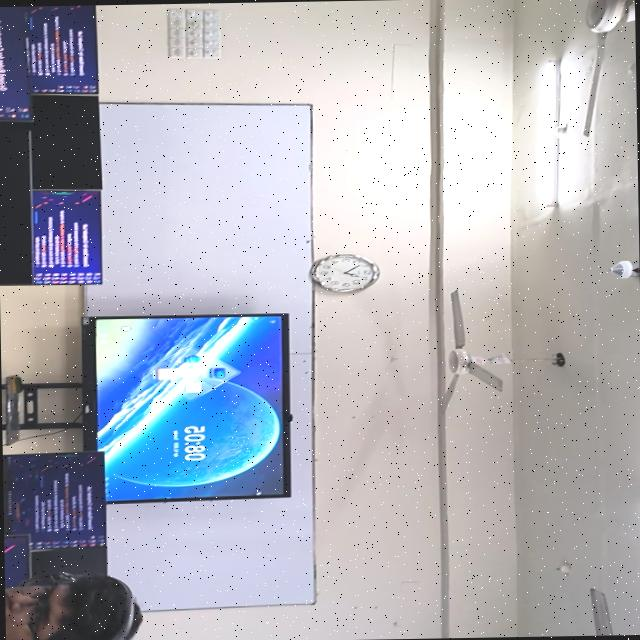Digital board: (82, 312, 289, 502)
Light: (541, 57, 567, 206)
Monitor: (2, 450, 105, 549), (21, 95, 100, 188), (32, 189, 101, 283), (26, 4, 97, 93), (0, 129, 31, 284), (0, 5, 31, 120), (31, 544, 105, 577), (4, 534, 31, 586)
